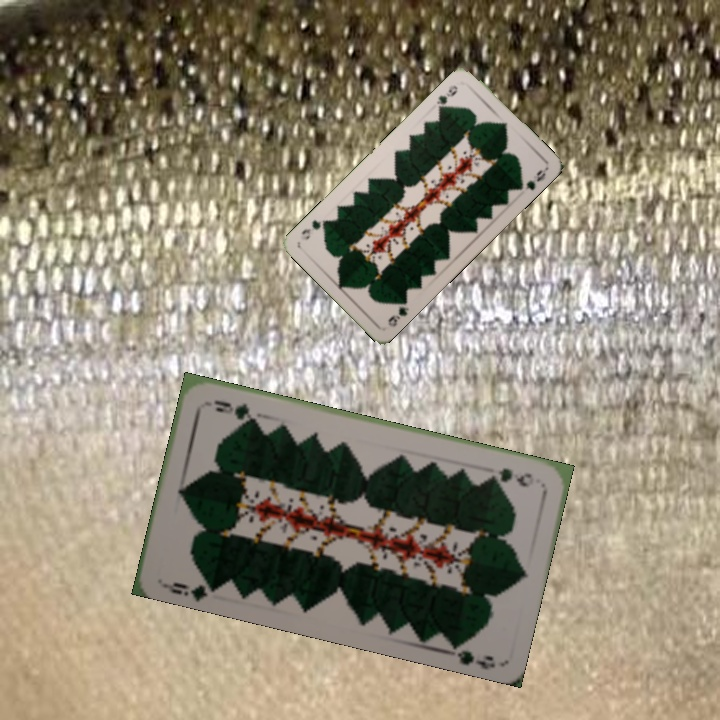G9: (159, 575, 219, 602), (494, 463, 537, 490), (384, 293, 411, 330), (433, 81, 460, 114)
